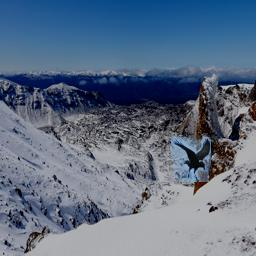Crow: (171, 137, 211, 182)
